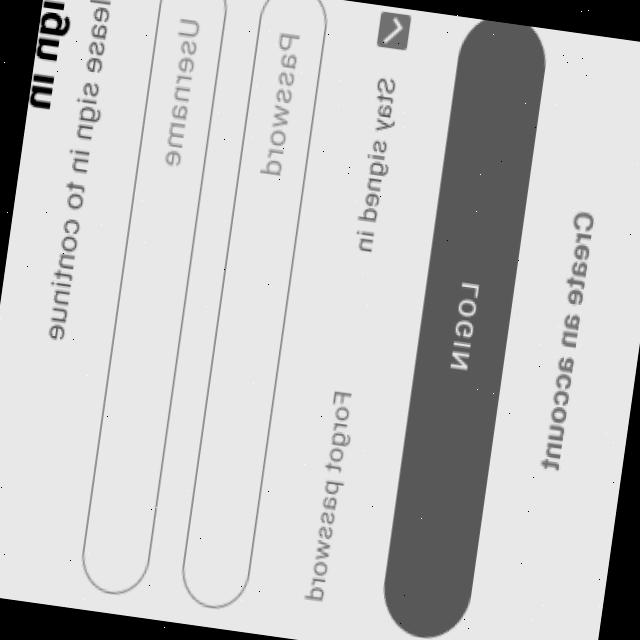QLabel: (40, 0, 121, 343), (534, 211, 596, 478), (302, 387, 358, 606), (26, 0, 76, 114), (446, 281, 482, 374)
VBtn: (373, 16, 550, 640), (493, 33, 640, 640)
VCheckbox: (343, 7, 413, 260)
VTextField: (174, 0, 331, 620), (72, 0, 230, 596)
